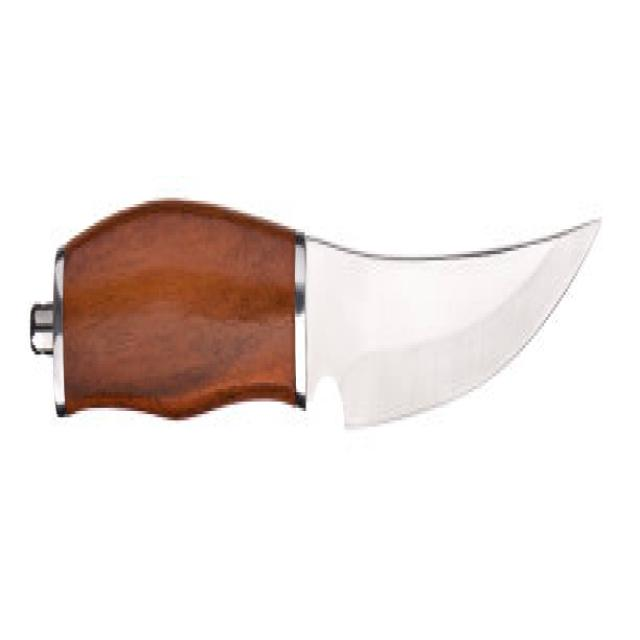knife: (18, 179, 609, 473)
